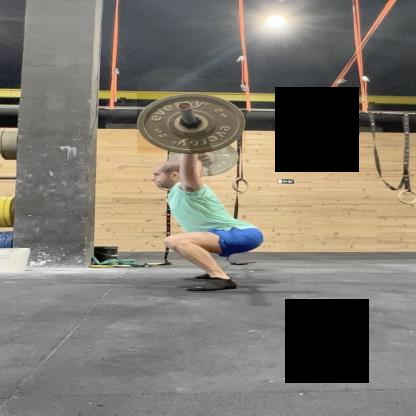barbell: (138, 94, 247, 155)
